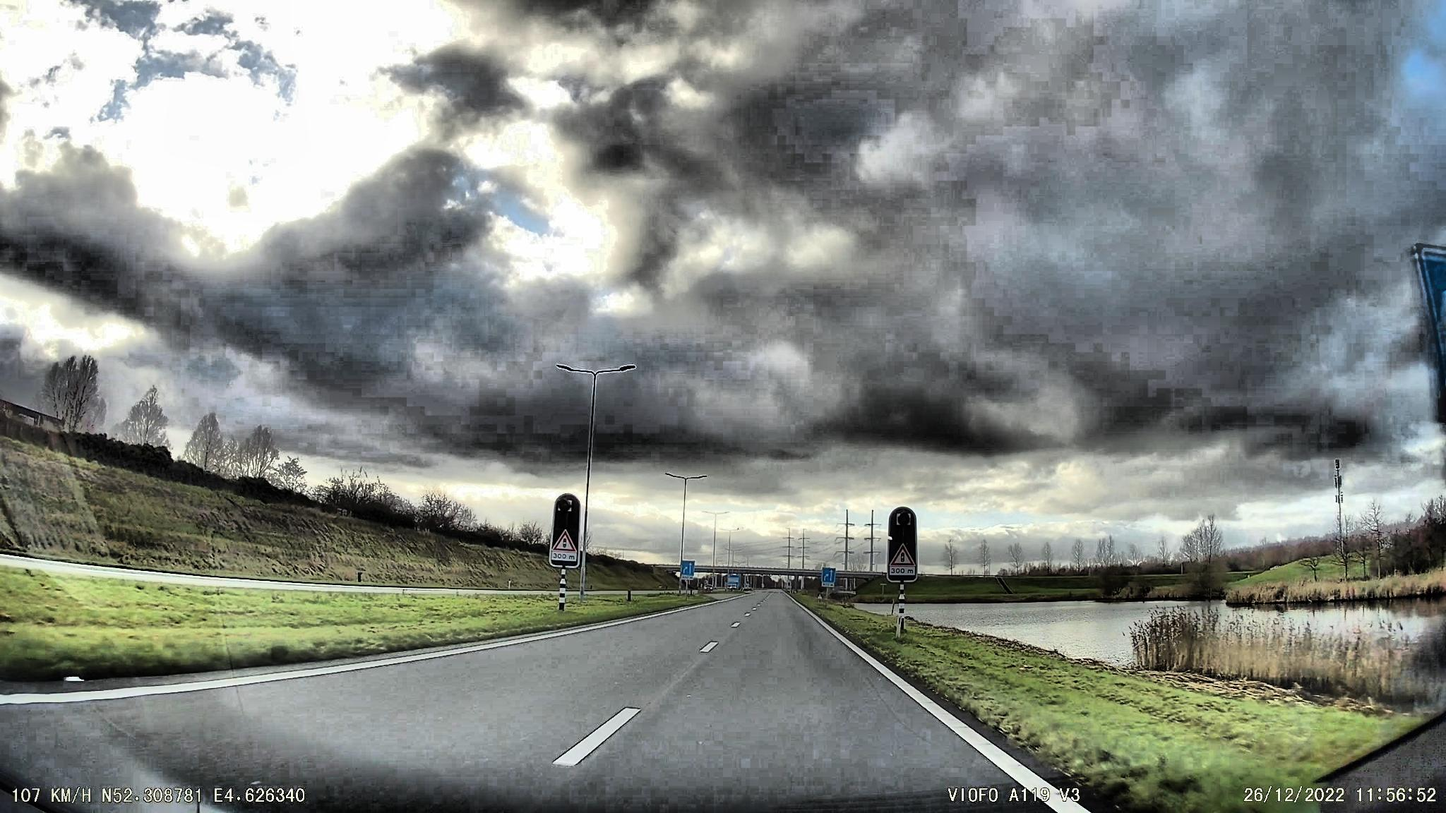Roads: (0, 591, 1102, 813)
